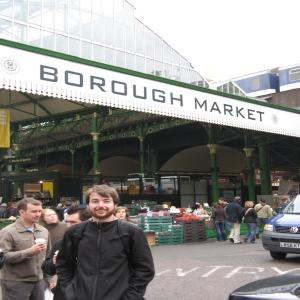Vehicle-registration-plate: (281, 245, 300, 249)
